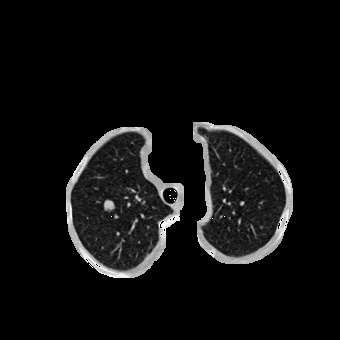PN: (102, 199, 114, 211)
